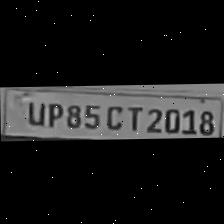0: (161, 104, 179, 134)
1: (178, 106, 196, 135)
2: (142, 105, 162, 134)
5: (80, 100, 100, 130)
8: (196, 107, 214, 136), (63, 102, 81, 130)
C: (101, 102, 125, 132)
P: (42, 100, 62, 128)
T: (123, 102, 143, 132)
U: (23, 100, 44, 127)
